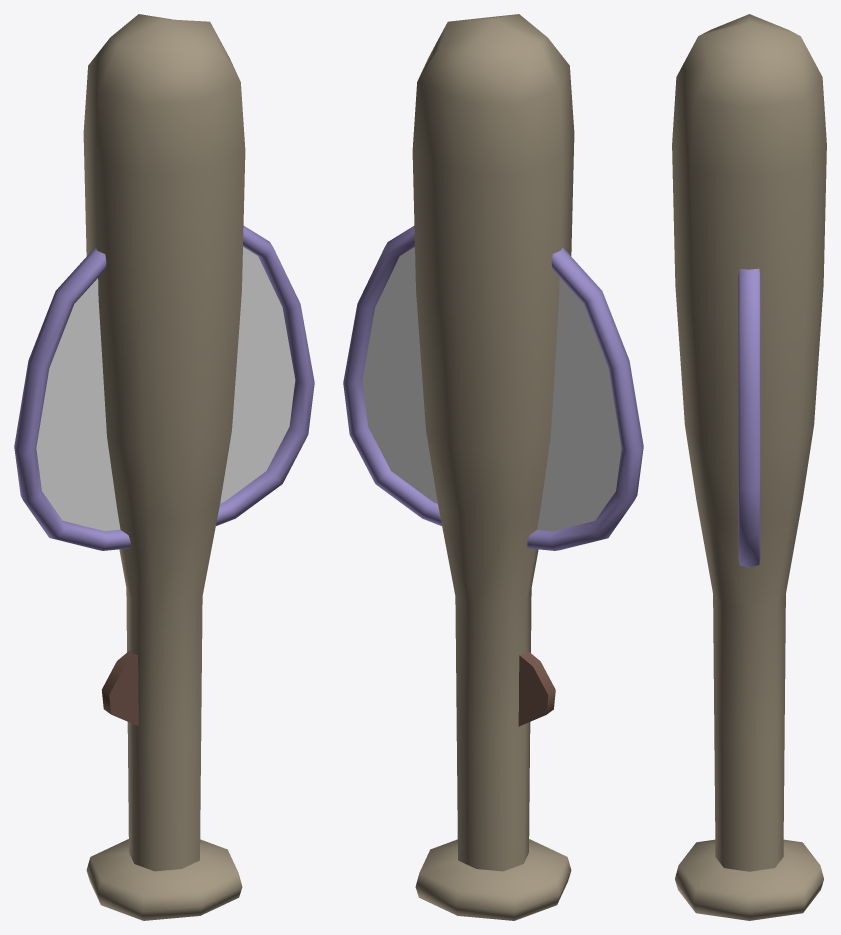
The model's file is WP_Bundle.fbx.
The picture shows the model from 3 angles, left to right: view 1: azimuth 30°, elevation 25°; view 2: azimuth 150°, elevation 25°; view 3: azimuth 270°, elevation 25°; orthographic projection.
Visible parts, largest first — view 1: WP_01_1_Bat, WP_02_1_Badminton_Racket, WP_04_1_Wrench; view 2: WP_01_1_Bat, WP_02_1_Badminton_Racket, WP_04_1_Wrench; view 3: WP_01_1_Bat, WP_02_1_Badminton_Racket.
Boxes of the visible parts, bbox=[...] form: WP_01_1_Bat: bbox=[83, 14, 245, 920]; WP_02_1_Badminton_Racket: bbox=[14, 226, 314, 550]; WP_04_1_Wrench: bbox=[102, 649, 138, 725]; WP_01_1_Bat: bbox=[412, 14, 574, 920]; WP_02_1_Badminton_Racket: bbox=[343, 226, 643, 550]; WP_04_1_Wrench: bbox=[518, 650, 555, 726]; WP_01_1_Bat: bbox=[672, 14, 826, 920]; WP_02_1_Badminton_Racket: bbox=[738, 268, 760, 567].
Size of the model in its own units: 5.09 by 14.6 by 2.32.
